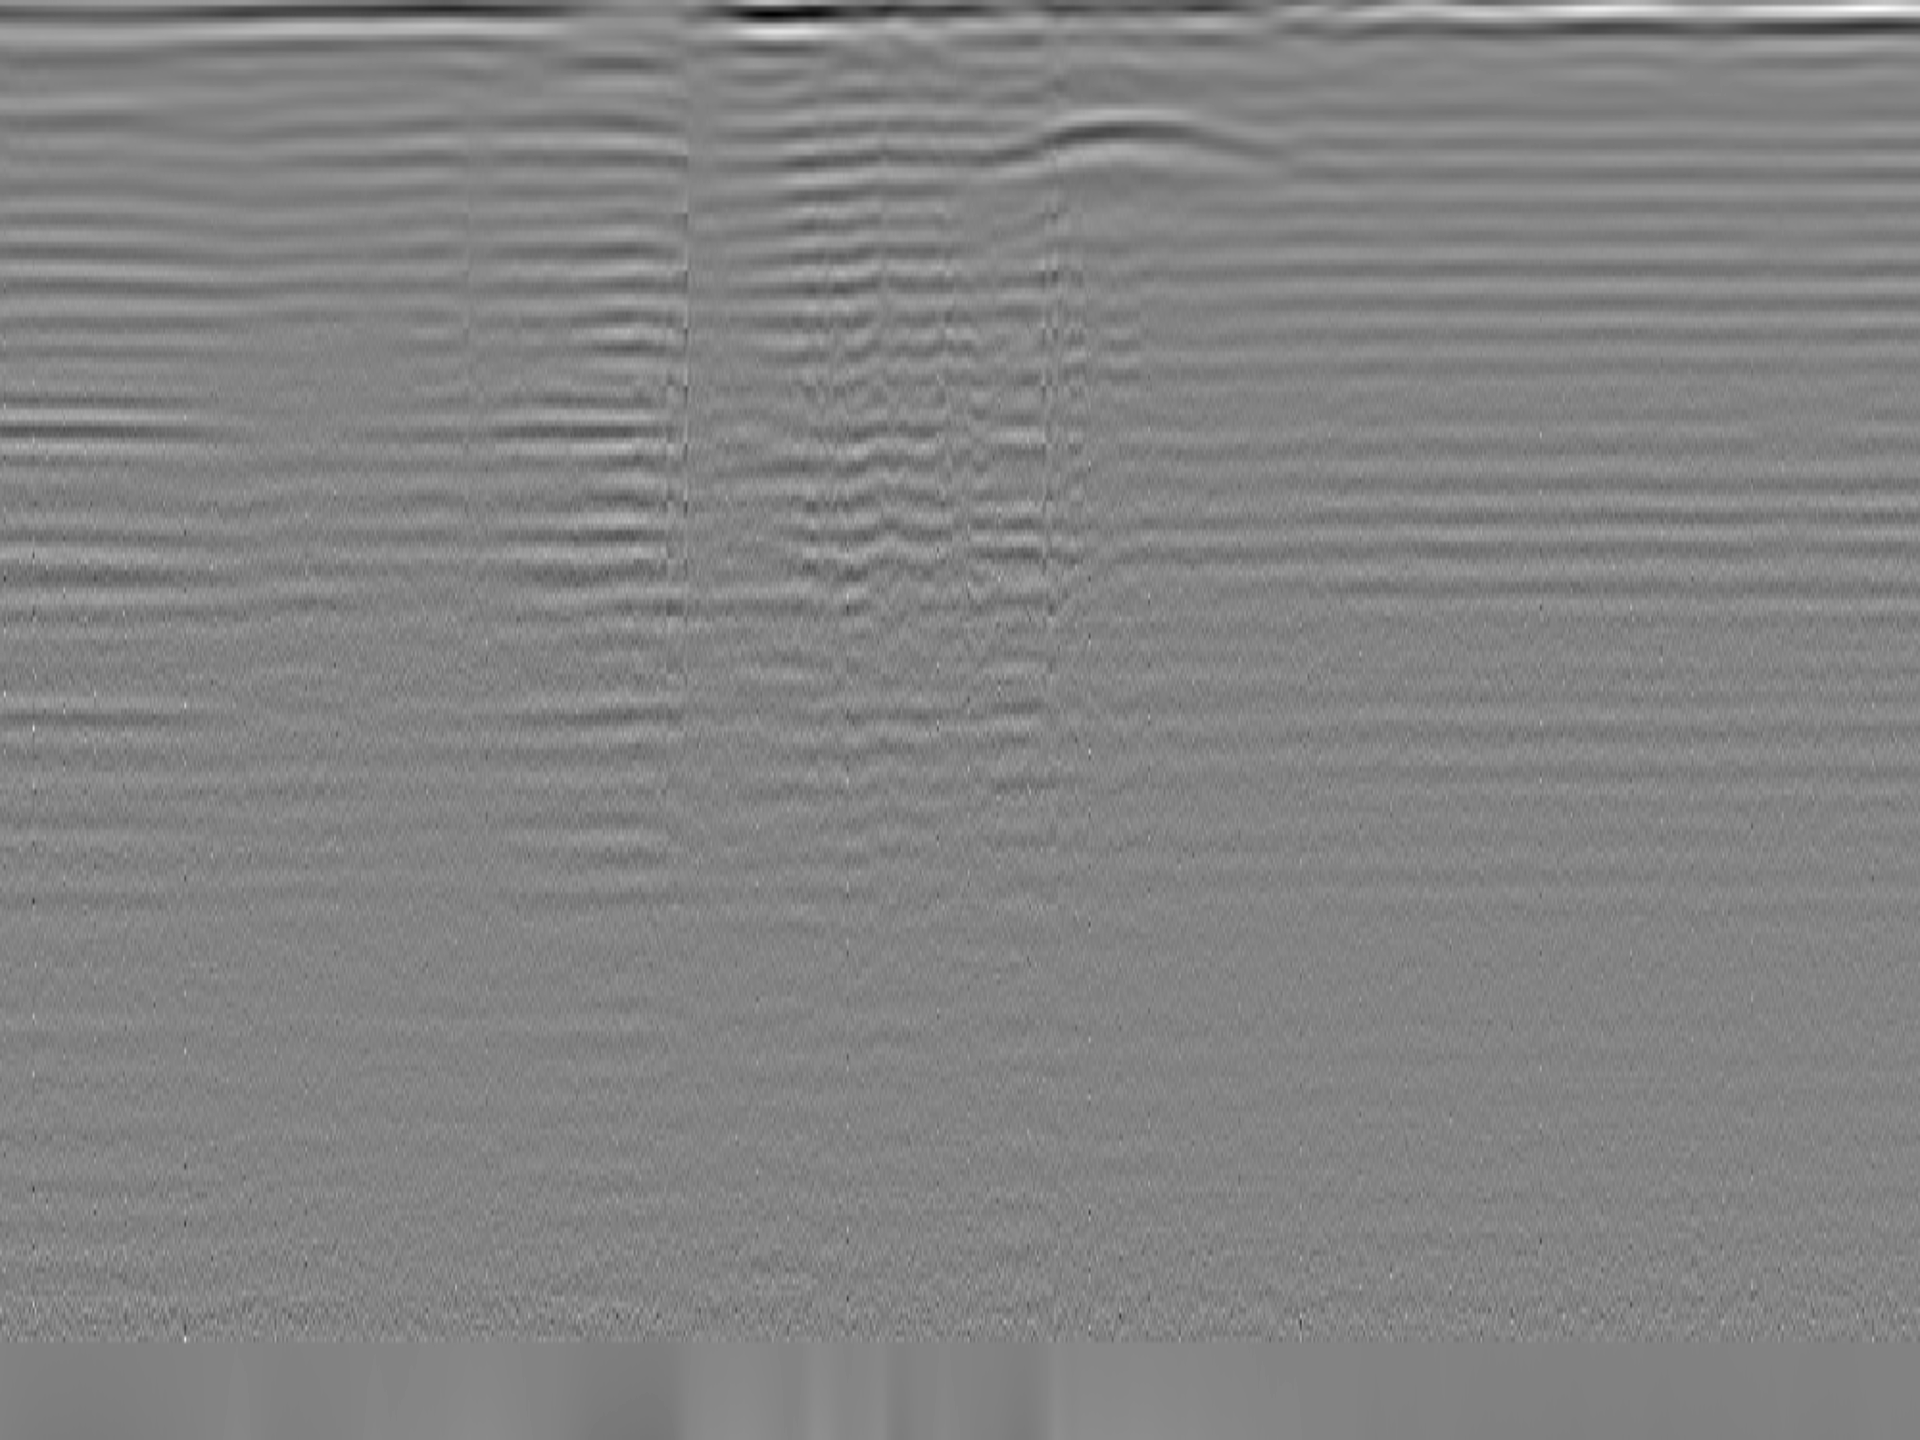Tunnel: (972, 106, 1290, 169)
